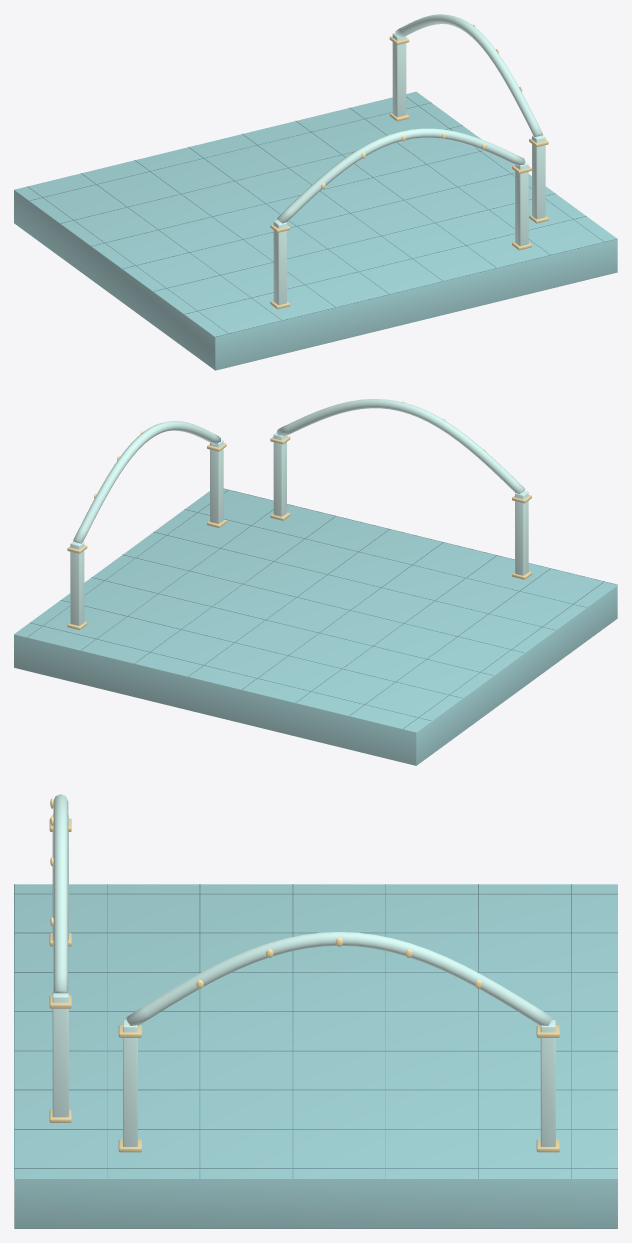
Rendered from atlantis_district_reef.glb.
3 renders of one model, top to bottom at view 1: azimuth 30°, elevation 25°; view 2: azimuth 150°, elevation 25°; view 3: azimuth 270°, elevation 25°, orthographic. The views are drawn at different scales.
Visible parts, largest first — view 1: atlantis_district_reef_surface; view 2: atlantis_district_reef_surface; view 3: atlantis_district_reef_surface.
Boxes of the visible parts, x1,y1,x2,y2 form: atlantis_district_reef_surface: [14, 14, 617, 370]; atlantis_district_reef_surface: [14, 399, 617, 765]; atlantis_district_reef_surface: [14, 794, 617, 1228].
Size of the model in its own units: 30 by 12.72 by 26.01.
